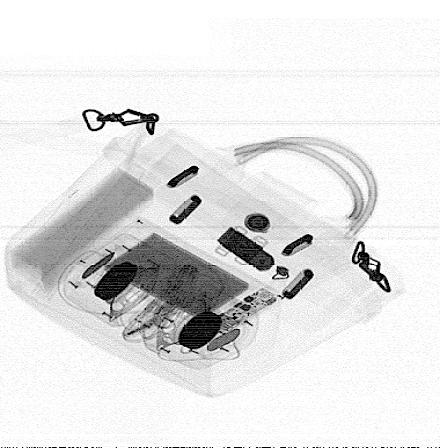Powerbank: (75, 215, 288, 339)
